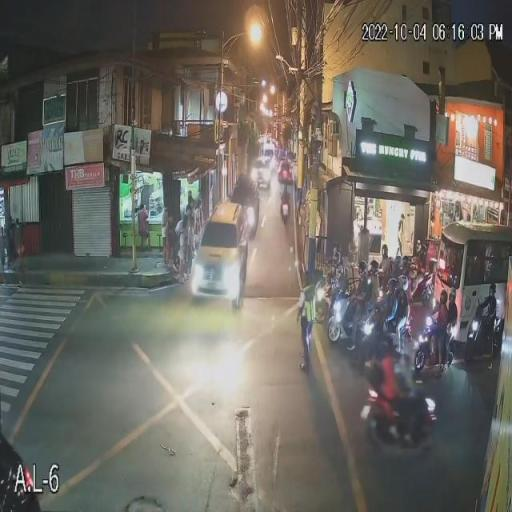helmet: (414, 240, 428, 260), (329, 251, 342, 269), (356, 260, 368, 278), (438, 288, 449, 307), (379, 246, 390, 264), (485, 284, 497, 300), (446, 290, 458, 305), (387, 280, 398, 296), (369, 260, 378, 270), (398, 277, 408, 286)
motorcycle: (360, 382, 439, 456), (461, 311, 512, 371), (354, 306, 400, 368), (400, 313, 443, 377), (327, 287, 371, 345), (310, 273, 350, 324), (278, 196, 292, 224)
rider: (365, 336, 411, 418), (421, 288, 452, 363), (380, 276, 410, 350), (475, 285, 502, 364), (406, 244, 435, 306), (362, 258, 382, 342), (352, 261, 370, 330), (324, 253, 345, 311), (446, 290, 459, 364), (376, 246, 393, 293), (280, 179, 291, 205)
